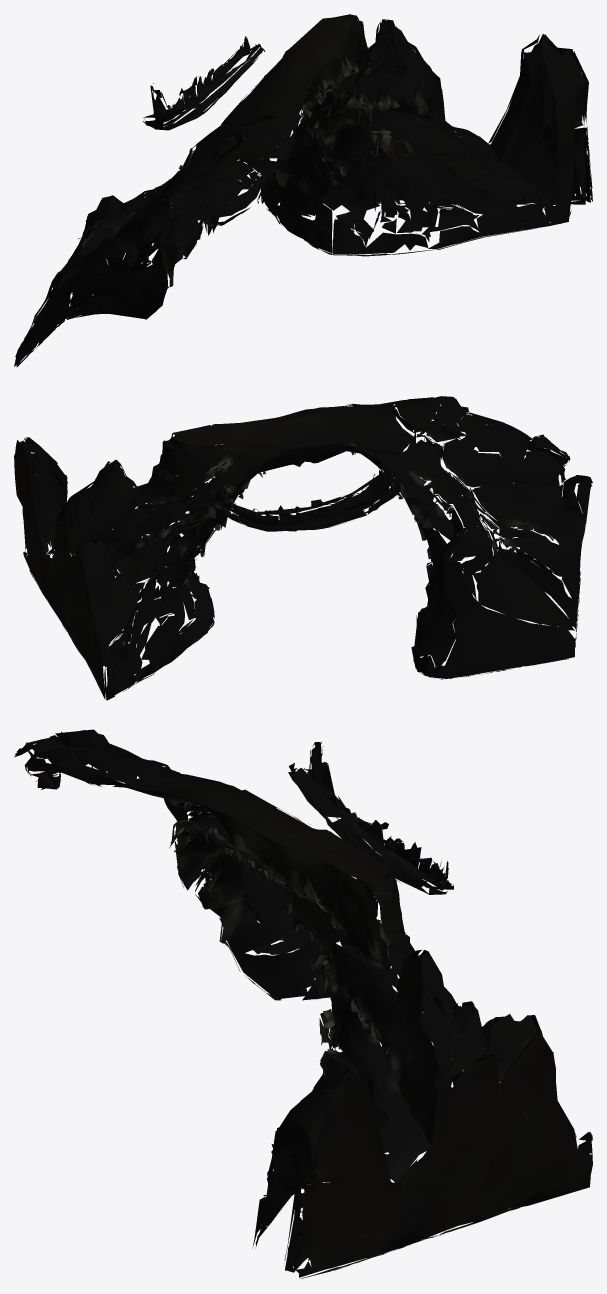
Rendered from cato-bridge-arch.lo.glb.
3 renders of one model, top to bottom at view 1: azimuth 30°, elevation 25°; view 2: azimuth 150°, elevation 25°; view 3: azimuth 270°, elevation 25°, orthographic. The views are drawn at different scales.
Visible parts, largest first — view 1: low; view 2: low; view 3: low.
Boxes of the visible parts, x1,y1,x2,y2 form: low: (14, 14, 592, 366); low: (14, 396, 592, 700); low: (14, 729, 592, 1278).
Size of the model in its own units: 0.942 by 0.3752 by 0.6134.
Materials: 1 (1 with a texture image).
